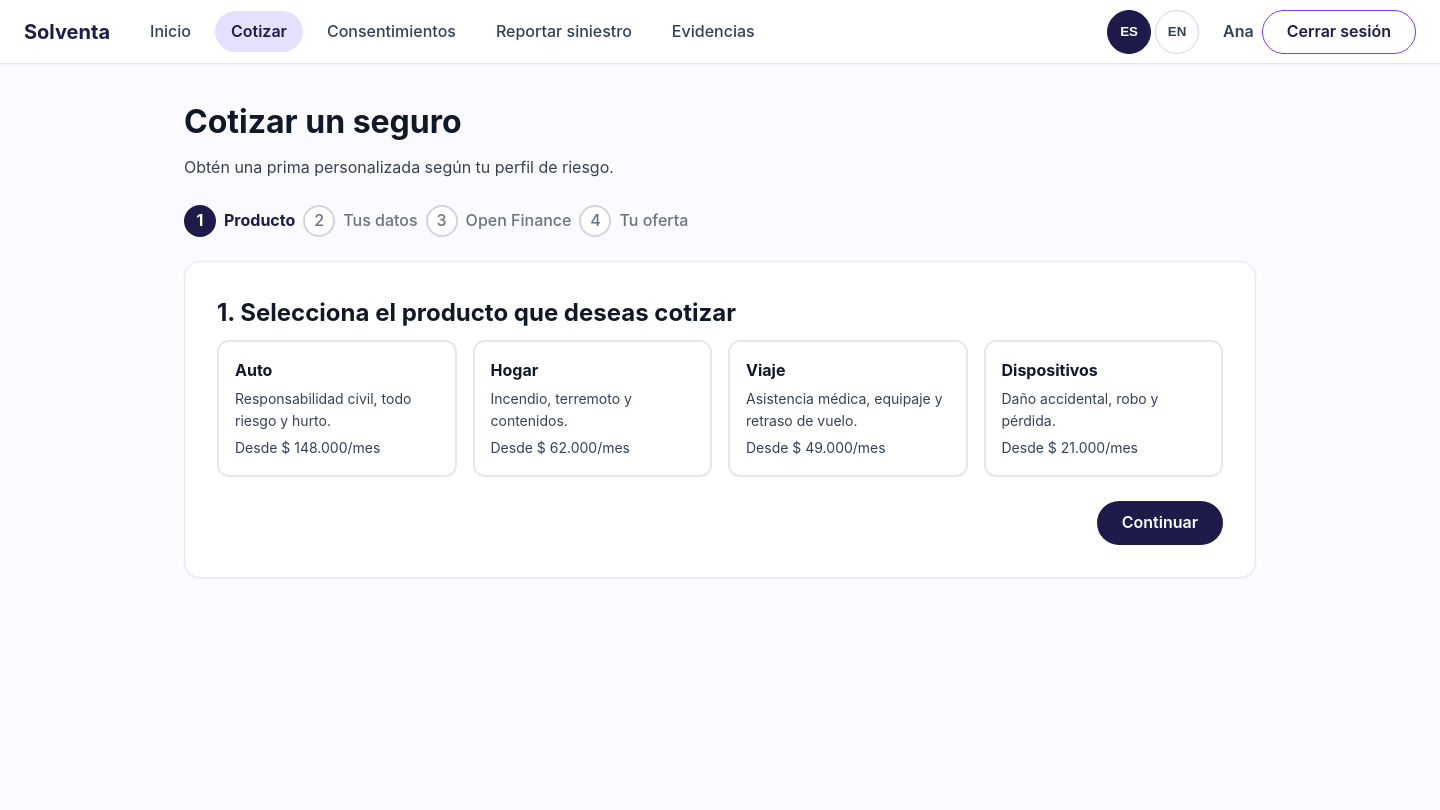
Test: Asistente de cotización (WEB-F01) › criterio 1: cada paso valida antes de avanzar y se puede volver sin perder datos › muestra los productos con su precio desde y exige elegir uno
Check: the heading "1. Selecciona el producto que deseas cotizar" is shown, box [217,297,884,327]
Check: the radio button that starts with "Auto" is shown, box [217,340,456,477]
Click the button "Continuar". click: (1160, 523)
box: [1097,501,1223,545]
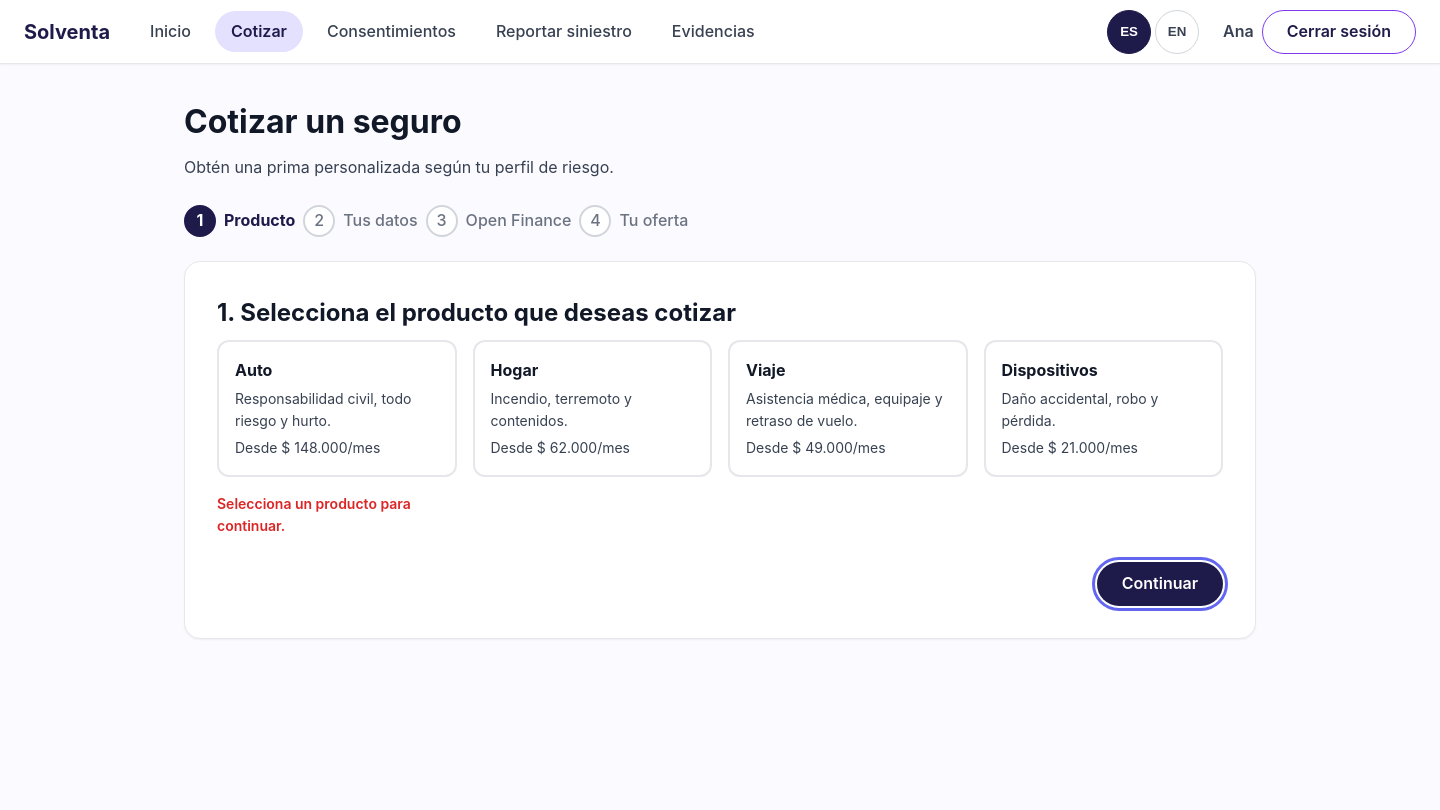
Check: the heading "1. Selecciona el producto que deseas cotizar" is shown, box [217,297,884,327]
Check: the message reads "Selecciona un producto para continuar.", box [217,495,411,534]
Click the radio button labelled "Hogar Incendio, terremoto y contenidos. Desde $ 62.000/mes". click: (592, 409)
box: [472,340,712,477]
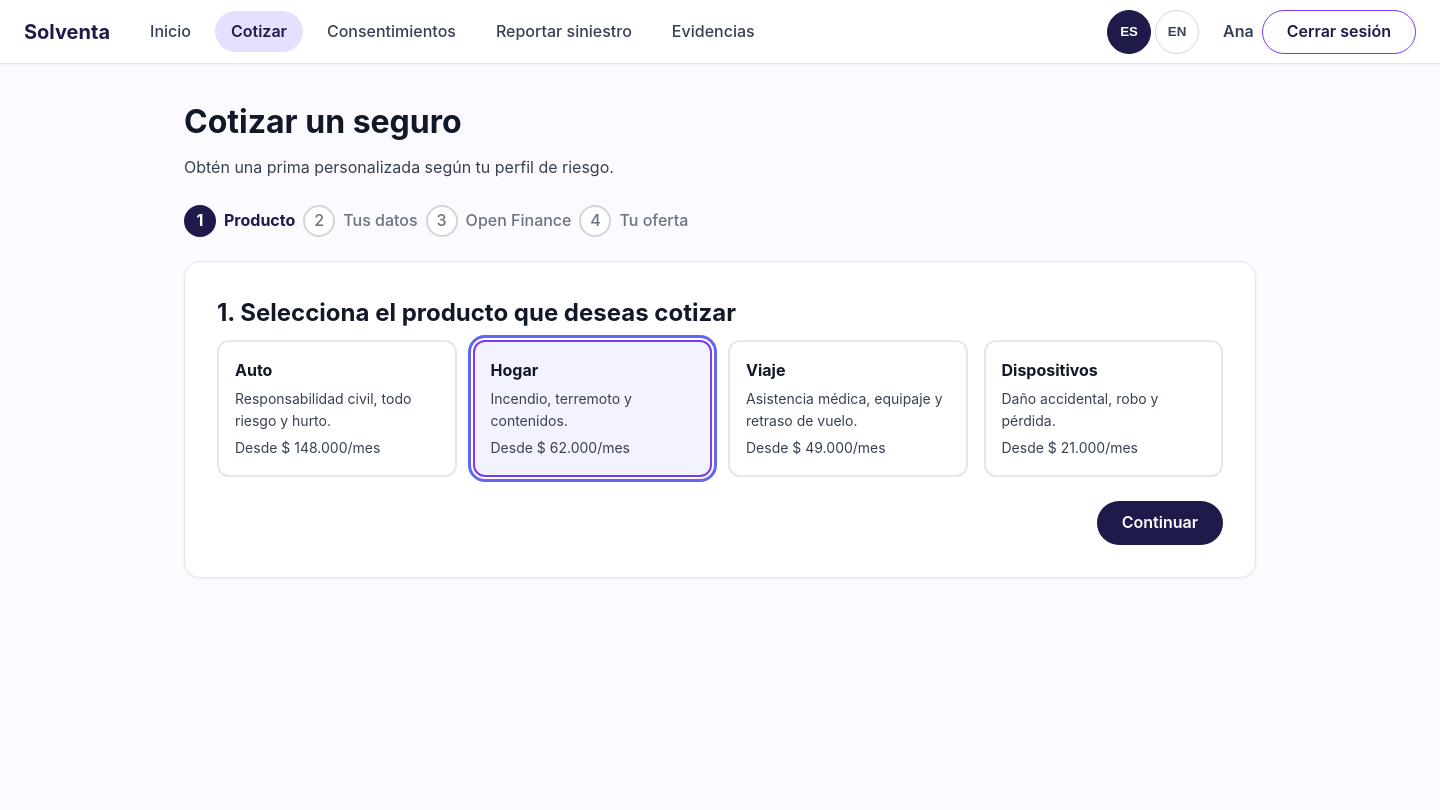
Check: the message "Selecciona un producto para continuar." is gone
